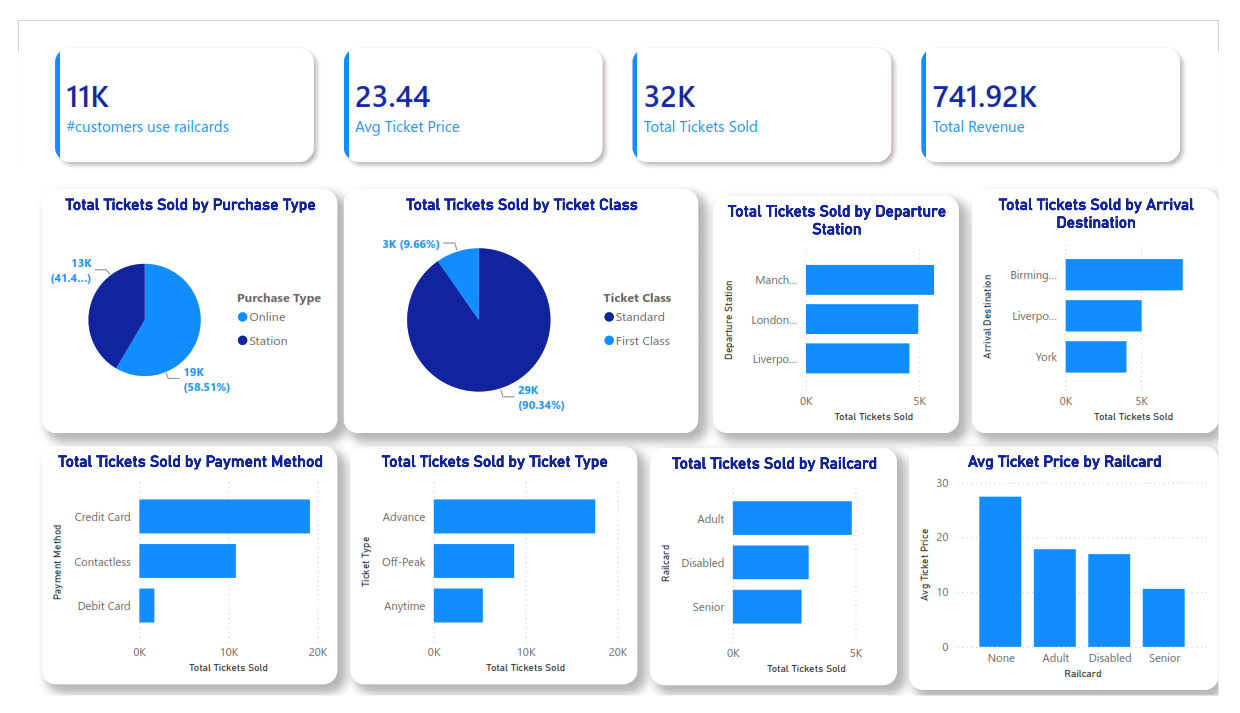

The page's visual inventory and layout, read from the dashboard file:
{"tool":"powerbi","page":{"name":"analysis","canvas":[1280,720],"ordinal":1},"visuals":[{"type":"cardVisual","fields":{"Data":["Sheet1.#customers use railcards","Sheet1.Avg Ticket Price","Sheet1.Total Tickets Sold","Sheet1.Total Revenue"]},"box":[9.6,0,1259.7,179.8],"z":0},{"type":"pieChart","fields":{"Y":["Sheet1.Total Tickets Sold"],"Category":["Sheet1.Purchase Type"]},"box":[24.7,179.8,315.6,260.7],"z":1000},{"type":"clusteredBarChart","fields":{"Y":["Sheet1.Total Tickets Sold"],"Category":["Sheet1.Payment Method"]},"box":[24.7,454.2,315.6,253.9],"z":2000},{"type":"clusteredBarChart","fields":{"Y":["Sheet1.Total Tickets Sold"],"Category":["Sheet1.Ticket Type"]},"box":[354,454.2,306,253.9],"z":3000},{"type":"pieChart","fields":{"Y":["Sheet1.Total Tickets Sold"],"Category":["Sheet1.Ticket Class"]},"box":[347.2,179.8,377.4,260.7],"z":4000},{"type":"clusteredBarChart","fields":{"Y":["Sheet1.Total Tickets Sold"],"Category":["Sheet1.Railcard"]},"box":[673.8,455.6,263.5,253.9],"z":5000},{"type":"clusteredColumnChart","fields":{"Category":["Sheet1.Railcard"],"Y":["Sheet1.Avg Ticket Price"]},"box":[949.6,454.2,330.7,259.3],"z":6000},{"type":"clusteredBarChart","fields":{"Category":["Sheet1.Departure Station"],"Y":["Sheet1.Total Tickets Sold"]},"box":[741,186.6,262.1,253.9],"z":7000},{"type":"clusteredBarChart","fields":{"Y":["Sheet1.Total Tickets Sold"],"Category":["Sheet1.Arrival Destination"]},"box":[1016.8,179.8,263.5,260.7],"z":8000}]}

Visuals, with their boxes in screenshot pixels (x1, y1, x2, y2), scaled from the page's 1280x720 canvas onto the 1240x713 screenshot:
cardVisual - Sheet1.#customers use railcards x Sheet1.Avg Ticket Price: pyautogui.locateOnScreen(9, 0, 1230, 178)
pieChart - Sheet1.Total Tickets Sold x Sheet1.Purchase Type: pyautogui.locateOnScreen(24, 178, 330, 436)
clusteredBarChart - Sheet1.Total Tickets Sold x Sheet1.Payment Method: pyautogui.locateOnScreen(24, 450, 330, 701)
clusteredBarChart - Sheet1.Total Tickets Sold x Sheet1.Ticket Type: pyautogui.locateOnScreen(343, 450, 639, 701)
pieChart - Sheet1.Total Tickets Sold x Sheet1.Ticket Class: pyautogui.locateOnScreen(336, 178, 702, 436)
clusteredBarChart - Sheet1.Total Tickets Sold x Sheet1.Railcard: pyautogui.locateOnScreen(653, 451, 908, 703)
clusteredColumnChart - Sheet1.Railcard x Sheet1.Avg Ticket Price: pyautogui.locateOnScreen(920, 450, 1239, 707)
clusteredBarChart - Sheet1.Departure Station x Sheet1.Total Tickets Sold: pyautogui.locateOnScreen(718, 185, 972, 436)
clusteredBarChart - Sheet1.Total Tickets Sold x Sheet1.Arrival Destination: pyautogui.locateOnScreen(985, 178, 1239, 436)
